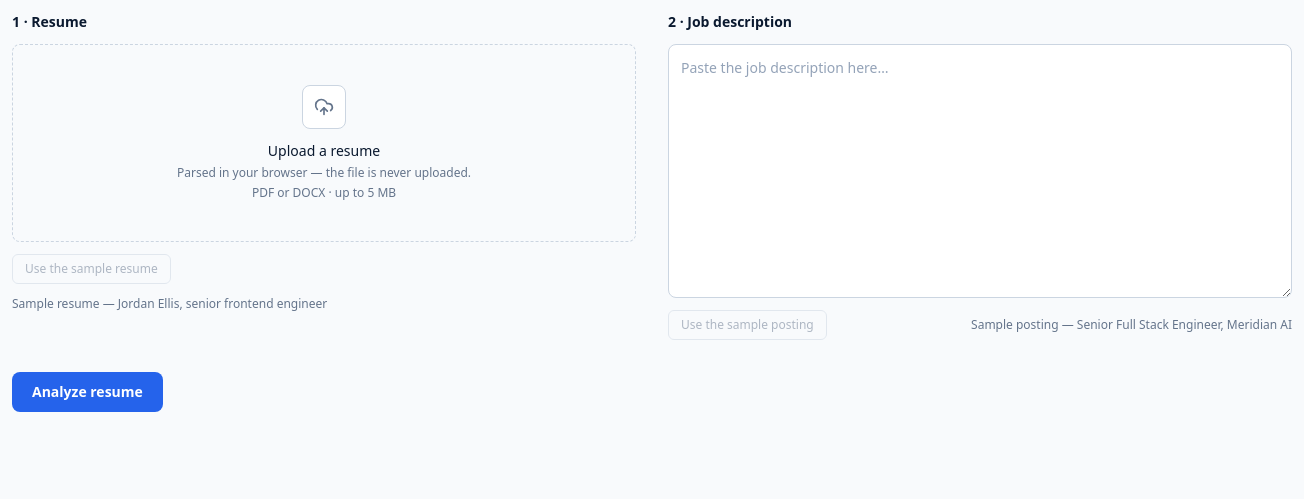
Test case: accessibility › reports failures as an alert, not a passive status
Click the button "Analyze resume" at (87, 392), box [12,372,163,412]
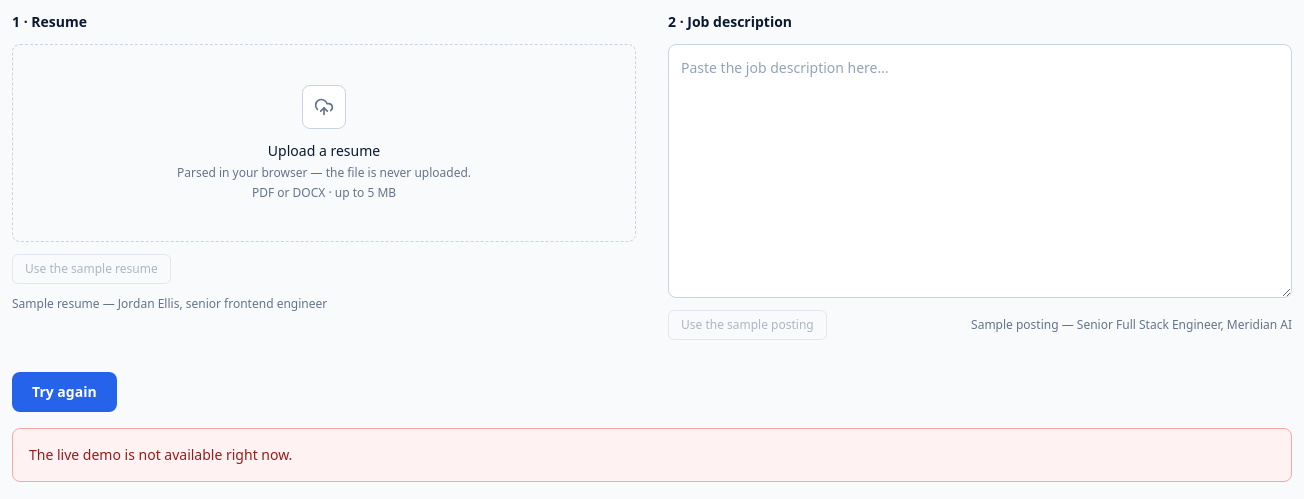
expect the message "The live demo is not available right now." is shown: met, box [12,428,1292,482]
